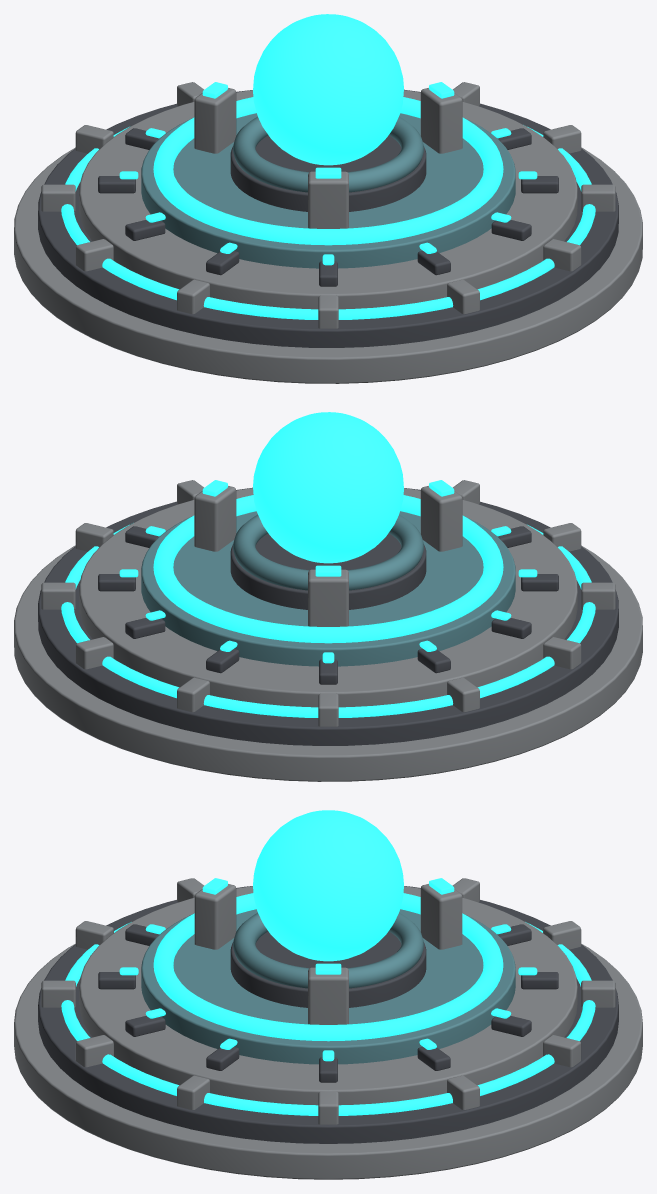
Rendered from SM_RecoveryStation.fbx.
3 renders of one model, top to bottom at view 1: azimuth 30°, elevation 25°; view 2: azimuth 150°, elevation 25°; view 3: azimuth 270°, elevation 25°, orthographic.
Parts seen in each view (by area): view 1: SM_RecoveryStation; view 2: SM_RecoveryStation; view 3: SM_RecoveryStation.
Boxes of the visible parts, x1,y1,x2,y2 form: SM_RecoveryStation: (14, 14, 642, 383); SM_RecoveryStation: (14, 412, 642, 781); SM_RecoveryStation: (14, 810, 642, 1179).
Bounding box in the file's own units: 366 × 366 × 148.
